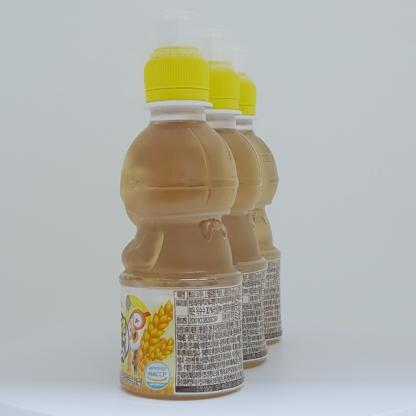--------220ML: (119, 10, 245, 400)
